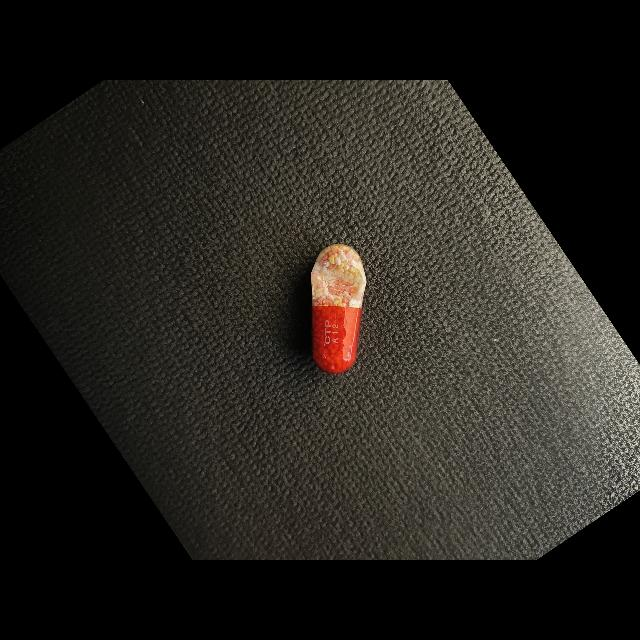Defective Capsule: (311, 244, 367, 373)
